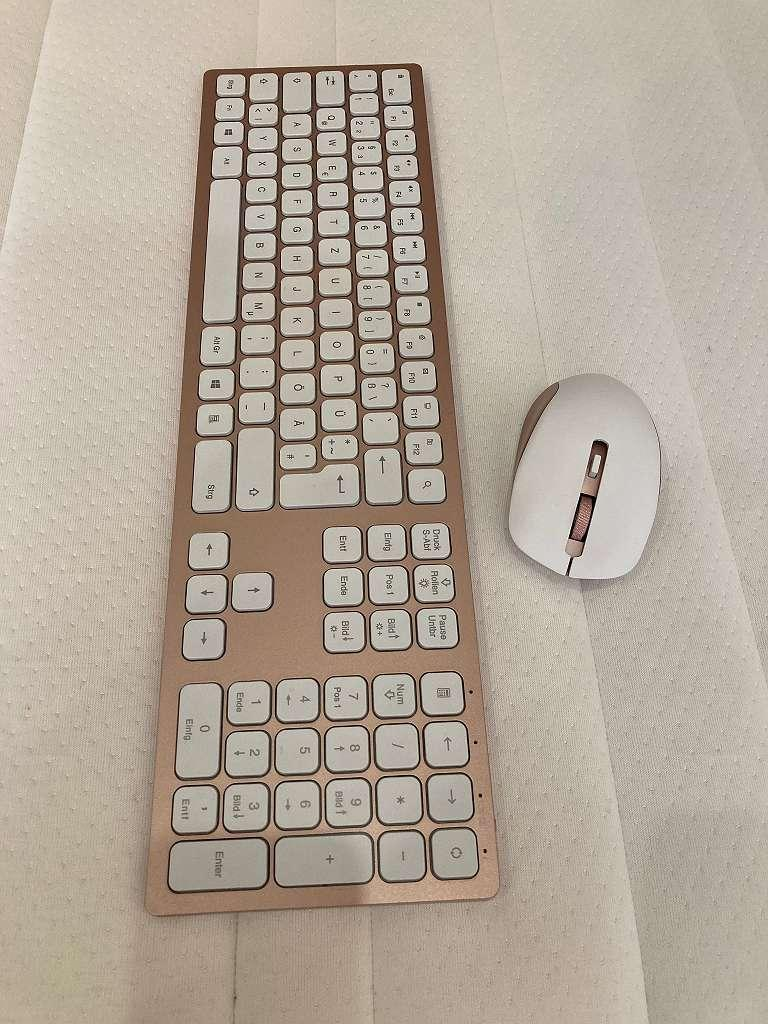0: (358, 341, 394, 371)
1: (348, 91, 382, 117)
2: (348, 114, 382, 140)
3: (350, 140, 384, 166)
4: (350, 166, 384, 192)
5: (352, 192, 386, 218)
6: (353, 218, 387, 244)
7: (355, 248, 390, 278)
8: (356, 278, 391, 308)
9: (357, 308, 392, 338)
a: (280, 113, 314, 139)
accent: (362, 410, 399, 443)
ae: (278, 407, 316, 439)
alt-left: (211, 147, 242, 179)
altgr-right: (200, 325, 237, 367)
b: (241, 231, 276, 257)
c: (244, 177, 278, 203)
caret: (347, 68, 379, 92)
comma: (241, 325, 275, 353)
d: (281, 163, 315, 189)
del: (364, 447, 403, 506)
e: (317, 156, 349, 181)
enter: (277, 461, 360, 509)
f: (281, 189, 315, 215)
g: (279, 215, 313, 241)
h: (279, 244, 313, 271)
hash: (279, 443, 317, 472)
i: (318, 297, 353, 325)
j: (281, 275, 315, 303)
k: (281, 307, 315, 335)
keyboard: (129, 56, 517, 926)
l: (278, 337, 314, 367)
less: (247, 102, 281, 128)
m: (241, 293, 275, 321)
minus: (237, 389, 275, 421)
n: (242, 262, 277, 288)
o: (318, 329, 354, 358)
oe: (278, 370, 315, 402)
p: (319, 362, 356, 393)
plus: (321, 433, 359, 462)
point: (238, 355, 275, 386)
q: (314, 106, 346, 131)
r: (316, 181, 348, 206)
s: (282, 137, 316, 163)
shift-left: (249, 71, 280, 103)
shift-lock: (281, 70, 312, 114)
shift-right: (235, 426, 275, 512)
space: (201, 177, 243, 323)
ss: (360, 375, 397, 406)
strg-left: (216, 73, 247, 96)
strg-right: (191, 438, 233, 514)
t: (317, 208, 350, 233)
tab: (315, 70, 347, 107)
u: (317, 266, 352, 294)
ue: (320, 396, 358, 429)
v: (244, 205, 279, 231)
w: (316, 131, 348, 156)
x: (245, 151, 279, 177)
y: (247, 125, 281, 151)
z: (318, 237, 353, 267)
